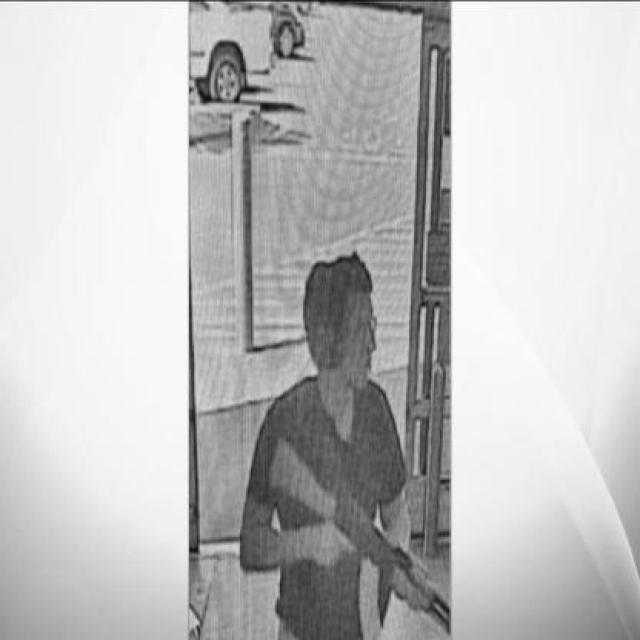weapon: (266, 439, 449, 635)
